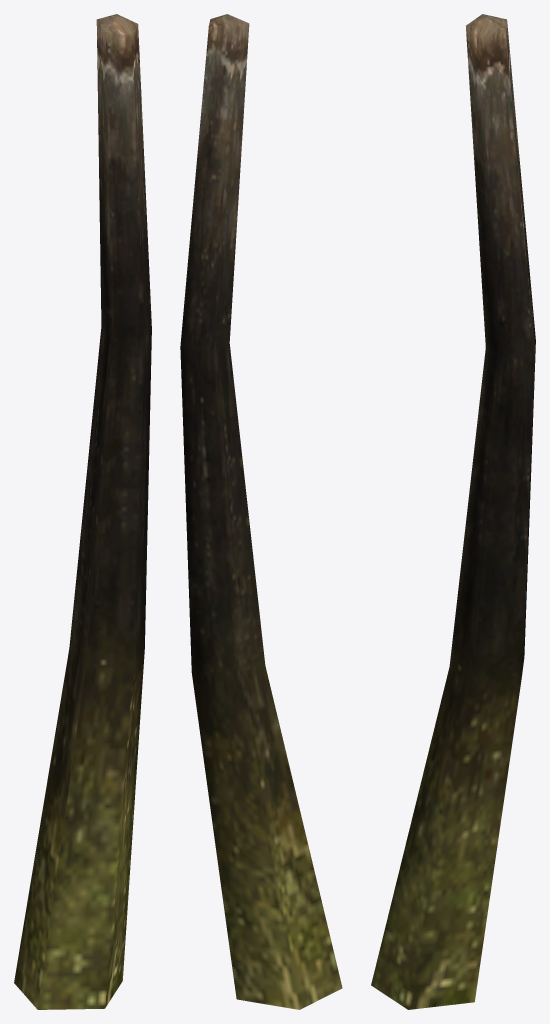
The model's file is OZ_20_mi_pole01A.glb.
3 views of the same model, side by side, from view 1: azimuth 30°, elevation 25°; view 2: azimuth 150°, elevation 25°; view 3: azimuth 330°, elevation 25° (orthographic). The views are drawn at different scales.
Visible parts, largest first — view 1: OM_20_mi_pole01A; view 2: OM_20_mi_pole01A; view 3: OM_20_mi_pole01A.
Boxes of the visible parts, bbox=[...] form: OM_20_mi_pole01A: bbox=[14, 14, 151, 1009]; OM_20_mi_pole01A: bbox=[180, 14, 342, 1009]; OM_20_mi_pole01A: bbox=[371, 14, 535, 1009].
Bounding box in the file's own units: 0.3022 × 2.02 × 0.2156.
1 material, 1 textured.
